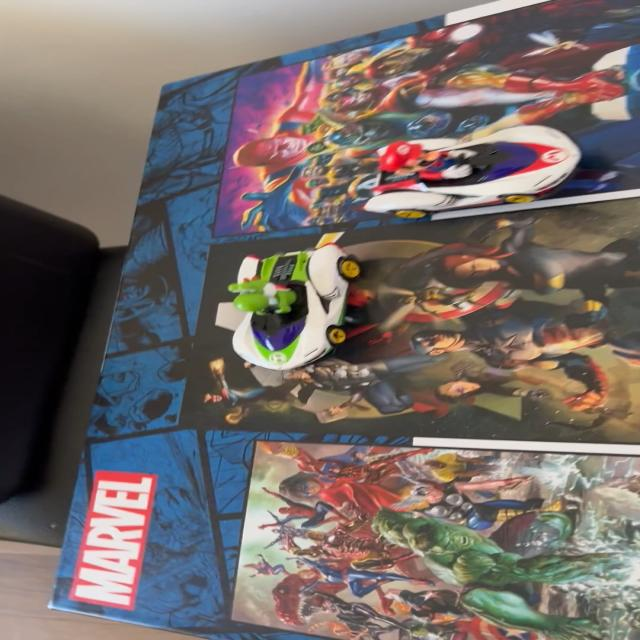mario: (347, 126, 603, 222)
yoshi: (199, 232, 378, 383)
